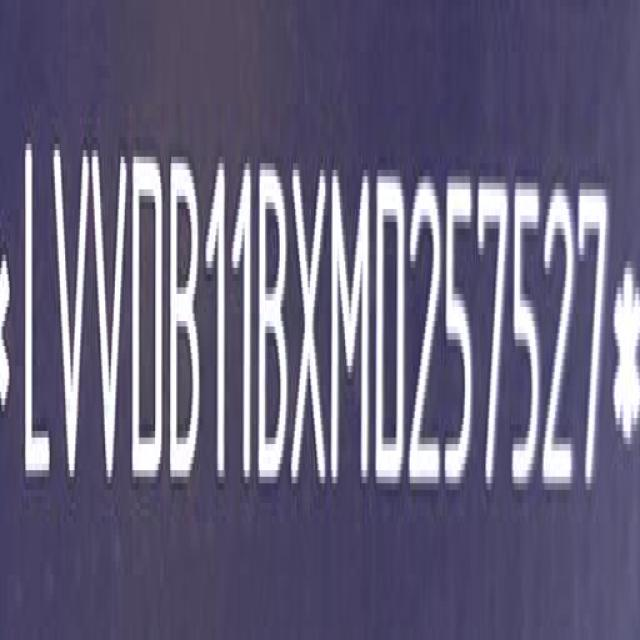1: (232, 154, 256, 488), (204, 152, 228, 476)
2: (408, 167, 442, 498), (542, 181, 576, 491)
5: (443, 160, 476, 498), (510, 169, 543, 491)
7: (575, 174, 609, 498), (478, 162, 509, 498)
B: (168, 148, 205, 491), (257, 150, 290, 493)
D: (130, 148, 164, 491), (374, 169, 407, 496)
L: (23, 135, 52, 491)
M: (327, 150, 373, 501)
V: (90, 140, 128, 501), (52, 142, 90, 500)
X: (290, 157, 328, 491)
